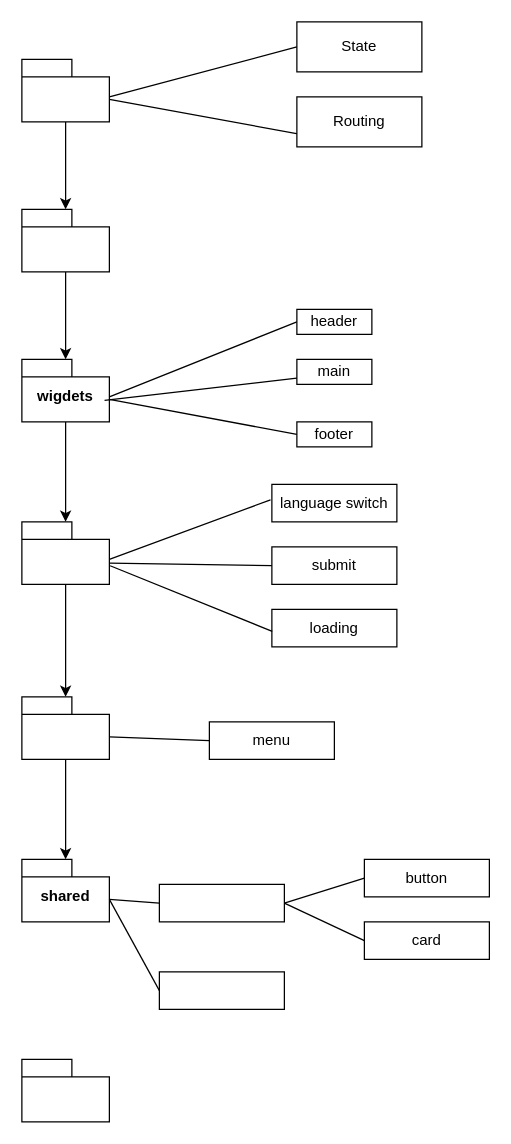
Some shapes in this 511 by 1144 pixel diagram are drawn without their labels. The shapes that lost their labels are listed below. From the top down, each one's centre as x and y in pixels, then its label:
the point at 65,90: app
the point at 65,240: pages
the point at 65,552: features
the point at 65,727: entites
the point at 221,902: ui
the point at 221,990: hooks
the point at 65,1090: assets
